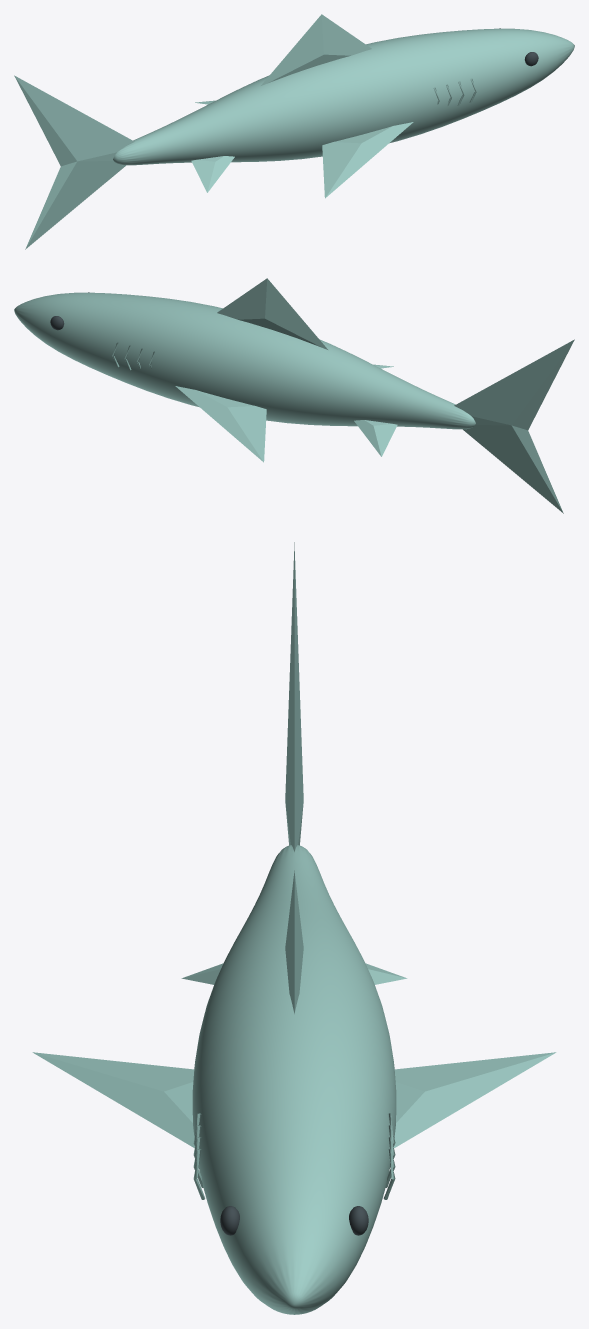
3 renders of one model, top to bottom at view 1: azimuth 30°, elevation 25°; view 2: azimuth 150°, elevation 25°; view 3: azimuth 270°, elevation 25°, orthographic. The views are drawn at different scales.
Parts seen in each view (by area): view 1: Body, Tail, Dorsal, Pectoral, Pelvic; view 2: Body, Tail, Dorsal, Pectoral.001, Pelvic.001; view 3: Body, Pectoral.001, Pectoral, Tail, Dorsal.
Boxes of the visible parts, box(x1,y1,x2,y2) form: Body: box(113, 28, 574, 165); Tail: box(14, 75, 134, 249); Dorsal: box(261, 14, 371, 85); Pectoral: box(322, 122, 413, 198); Pelvic: box(191, 156, 234, 192); Body: box(14, 292, 475, 429); Tail: box(454, 339, 574, 513); Dorsal: box(217, 278, 327, 349); Pectoral.001: box(175, 386, 266, 462); Pelvic.001: box(354, 420, 397, 456); Body: box(192, 845, 396, 1314); Pectoral.001: box(393, 1052, 556, 1148); Pectoral: box(32, 1052, 194, 1147); Tail: box(285, 542, 303, 851); Dorsal: box(285, 870, 303, 1013).
Bounding box in the file's own units: 252 × 76 × 102.
